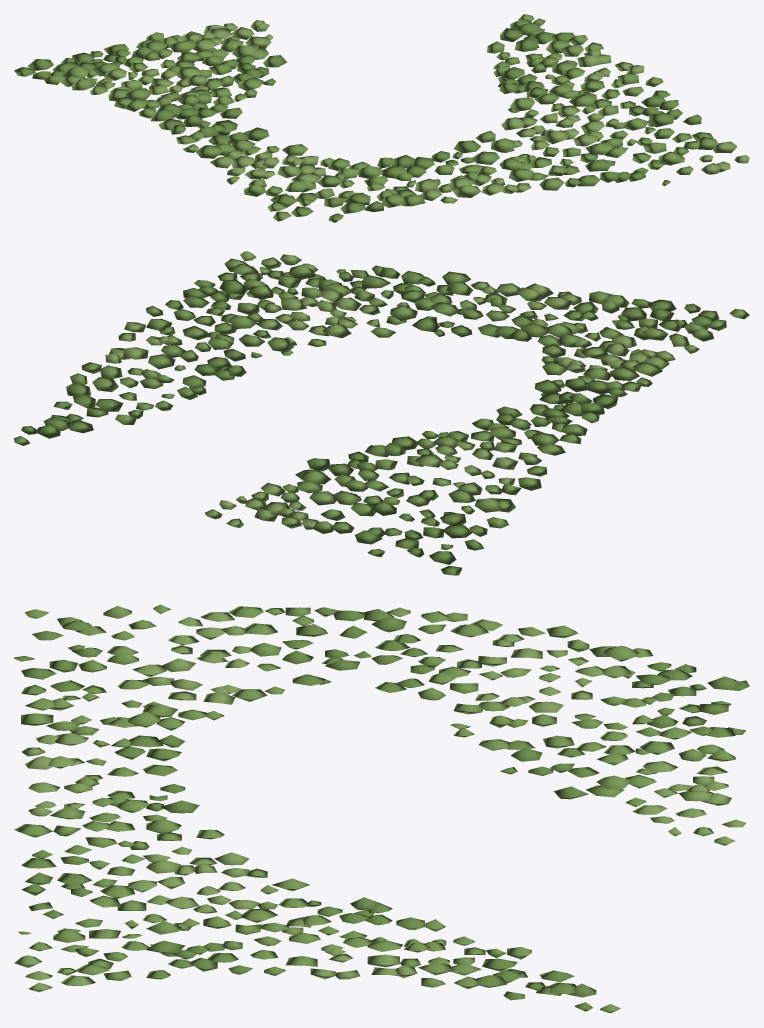
File: canopy-1--5--1.glb
The picture shows the model from 3 angles, top to bottom: view 1: azimuth 30°, elevation 25°; view 2: azimuth 150°, elevation 25°; view 3: azimuth 270°, elevation 25°; orthographic projection. The views are drawn at different scales.
Bounding box in the file's own units: 515 × 87.5 × 515.
1 material, 1 textured.
